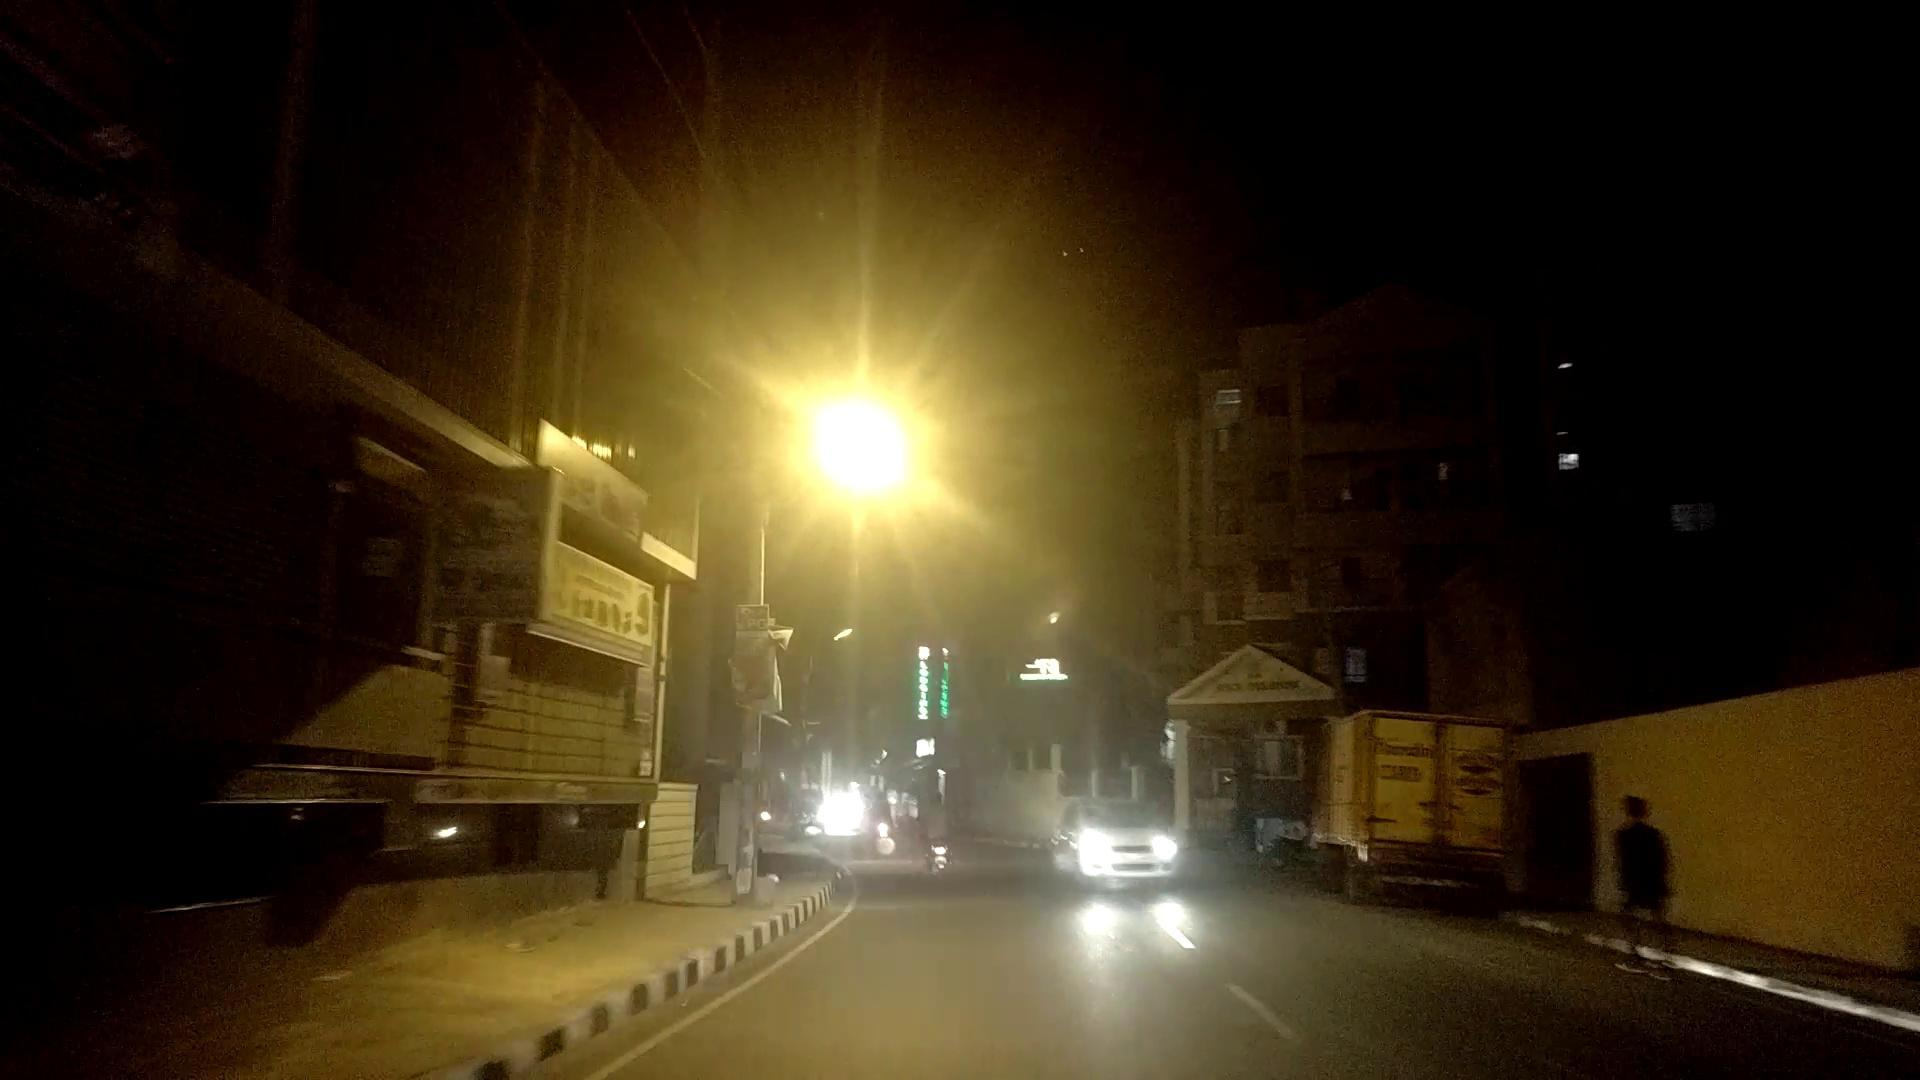on: (620, 222, 1087, 667)
